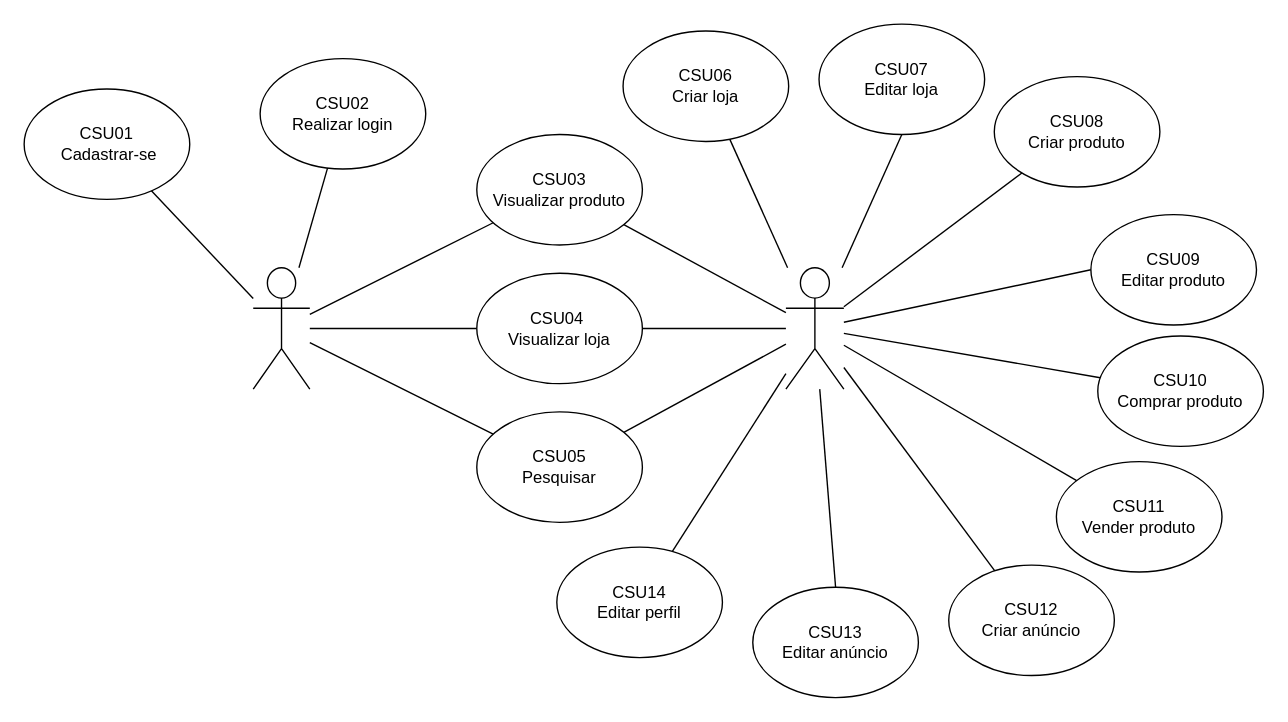
Image size: 1288x722. Some labels were removed from this diagram. Each missing label, with the centre of its shape:
Usuário Identific ado: the point at 814,327
Usuário Não Identificado: the point at 281,327
